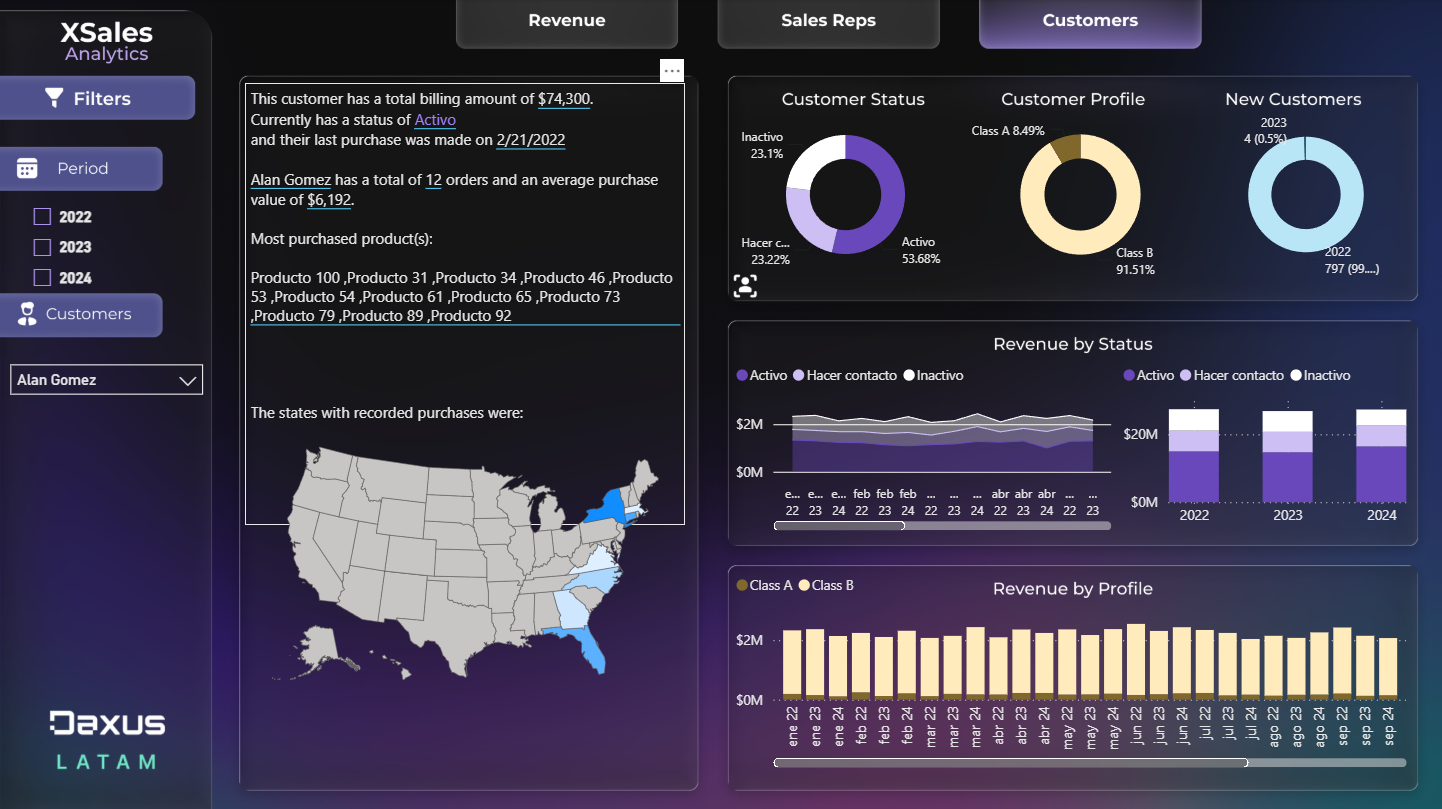

Layout of this report page (visuals, bound fields, positions):
{"tool":"powerbi","page":{"name":"Clientes","canvas":[1280,720],"ordinal":2},"visuals":[{"type":"actionButton","box":[640,0,179.9,35],"z":0},{"type":"actionButton","box":[423.1,0,179.9,35],"z":1000},{"type":"slicer","fields":{"Values":["dCalendario.Año"]},"box":[17.5,175.1,156.6,92.4],"z":2000},{"type":"slicer","fields":{"Values":["dClientes.nombre_cliente"]},"box":[0,313.5,190.5,46.5],"z":3000},{"type":"donutChart","fields":{"Category":["dClientes.Status"],"Y":["Tabla_medidas.N de clientes"]},"box":[648.2,94.9,204.8,156.9],"z":4000},{"type":"donutChart","fields":{"Category":["dClientes.Class"],"Y":["Tabla_medidas.N de clientes"]},"box":[853,94.9,211.9,156.9],"z":5000},{"type":"columnChart","fields":{"Category":["dCalendario.Año"],"Series":["dClientes.Status"],"Y":["Tabla_medidas.Facturacion"]},"box":[991.3,313.9,261.6,162.3],"z":6000},{"type":"stackedAreaChart","fields":{"Category":["dCalendario.Month_year"],"Series":["dClientes.Status"],"Y":["Tabla_medidas.Facturacion"]},"box":[648.2,313.9,343.2,162.3],"z":7000},{"type":"columnChart","fields":{"Category":["dCalendario.Month_year"],"Series":["dClientes.Class"],"Y":["Tabla_medidas.Facturacion"]},"box":[648,500.5,605,186.1],"z":8000},{"type":"donutChart","fields":{"Category":["dCalendario.Año"],"Y":["Medidas_clientes.Nuevos_clientes"]},"box":[1064.9,94.9,188,156.9],"z":9000},{"type":"textbox","box":[217.8,74.6,390.7,391.6],"z":10000},{"type":"shapeMap","fields":{"Category":["dLocal.estado_desc"],"Value":["Tabla_medidas.Facturacion"]},"box":[217.8,313.5,390.7,373.2],"z":11000}]}

Visuals, with their boxes on the page's 1280x720 design canvas (x1, y1, x2, y2). These are canvas units, not pixel positions in the 1442x809 screenshot, which may show the page scaled, cropped or inside an application window:
actionButton: (640,0,820,35)
actionButton: (423,0,603,35)
slicer - dCalendario.Año: (18,175,174,268)
slicer - dClientes.nombre_cliente: (0,314,190,360)
donutChart - dClientes.Status x Tabla_medidas.N de clientes: (648,95,853,252)
donutChart - dClientes.Class x Tabla_medidas.N de clientes: (853,95,1065,252)
columnChart - dCalendario.Año x dClientes.Status: (991,314,1253,476)
stackedAreaChart - dCalendario.Month_year x dClientes.Status: (648,314,991,476)
columnChart - dCalendario.Month_year x dClientes.Class: (648,500,1253,687)
donutChart - dCalendario.Año x Medidas_clientes.Nuevos_clientes: (1065,95,1253,252)
textbox: (218,75,608,466)
shapeMap - dLocal.estado_desc x Tabla_medidas.Facturacion: (218,314,608,687)
